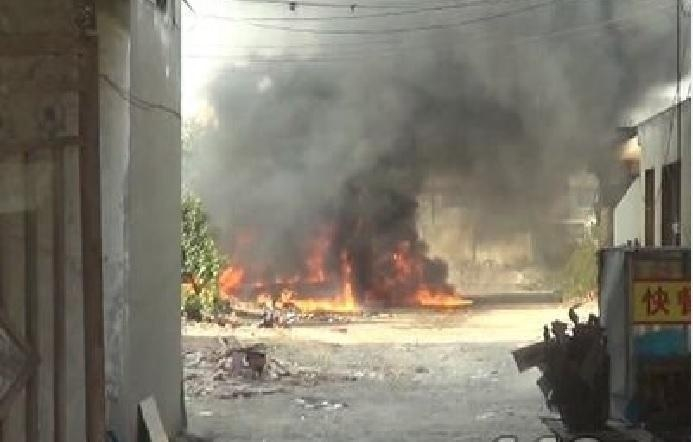fire: (215, 234, 467, 316)
